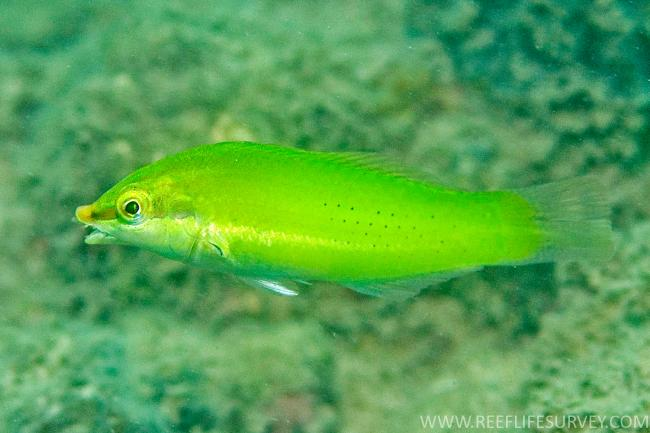fish: (75, 139, 615, 303)
